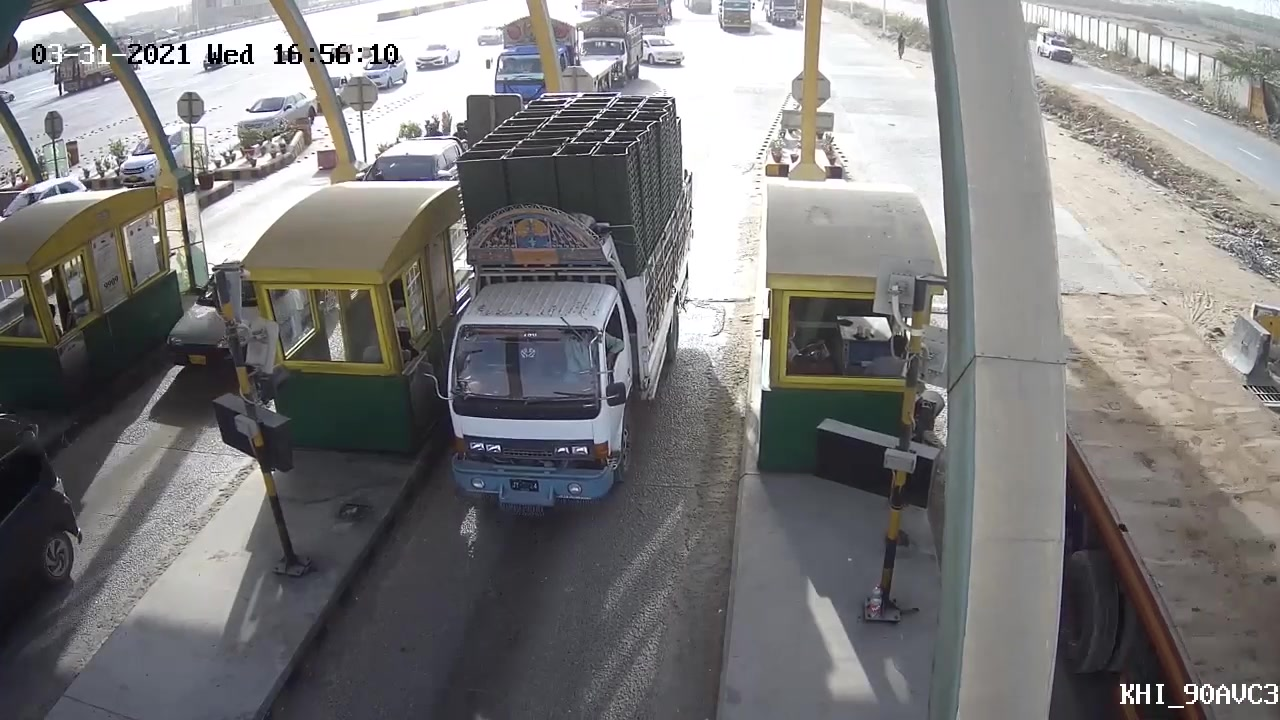F5: (432, 82, 692, 522)
